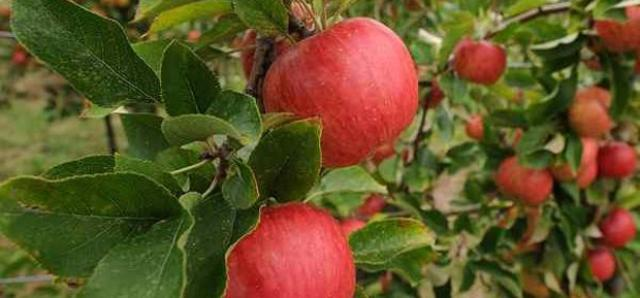Apples: (260, 18, 420, 166), (229, 202, 355, 298), (454, 41, 506, 85), (598, 142, 636, 179)
